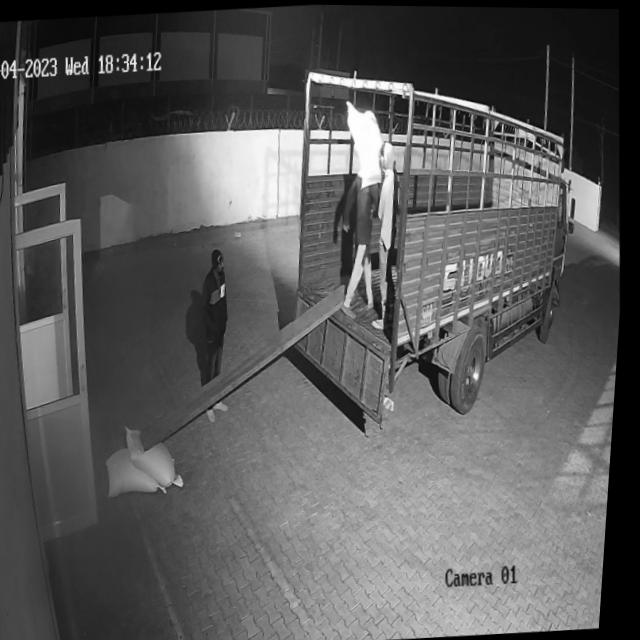sack: (127, 420, 191, 489), (342, 97, 390, 188), (108, 445, 173, 497)
